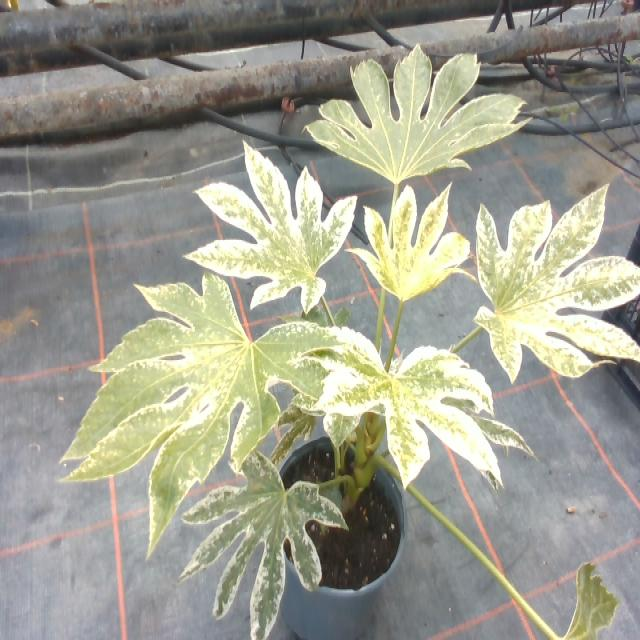Fatsia-japonica: (65, 283, 344, 495), (138, 441, 366, 636), (471, 167, 640, 389), (311, 11, 516, 188), (182, 132, 362, 322), (323, 316, 495, 467), (353, 193, 478, 307), (540, 530, 622, 640)
